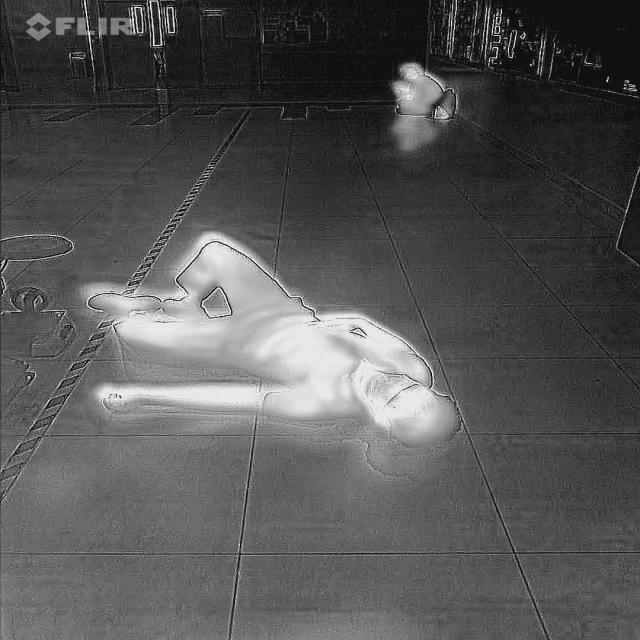Victim: (81, 230, 471, 454), (380, 56, 459, 120)
